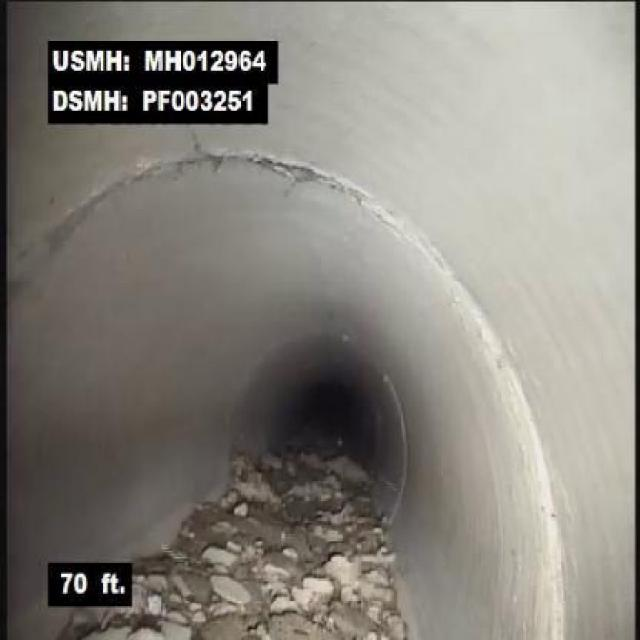Crack: (184, 125, 213, 163)
Obstacle: (132, 448, 318, 638), (317, 460, 406, 638)
